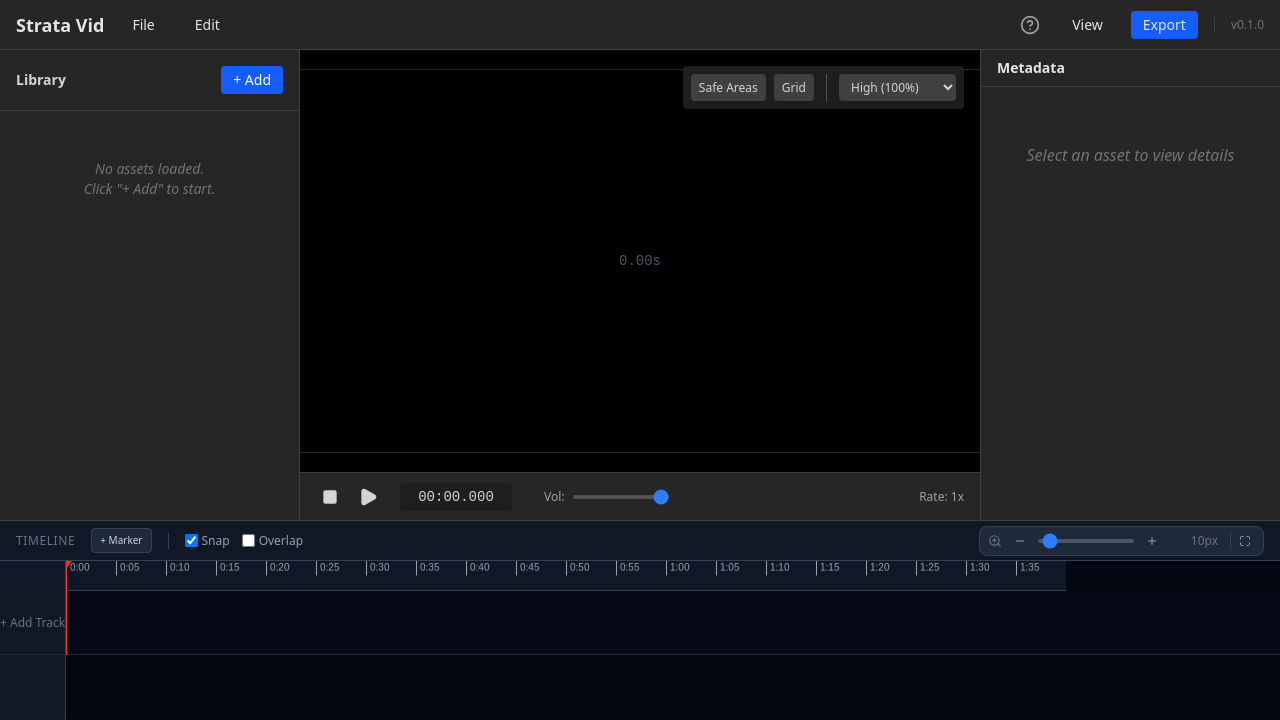
Test: Integration: Help System › closes help modal
This screenshot has width=1280, height=720.
Click the button named "Help": (1030, 24) [1016, 10, 1044, 38]
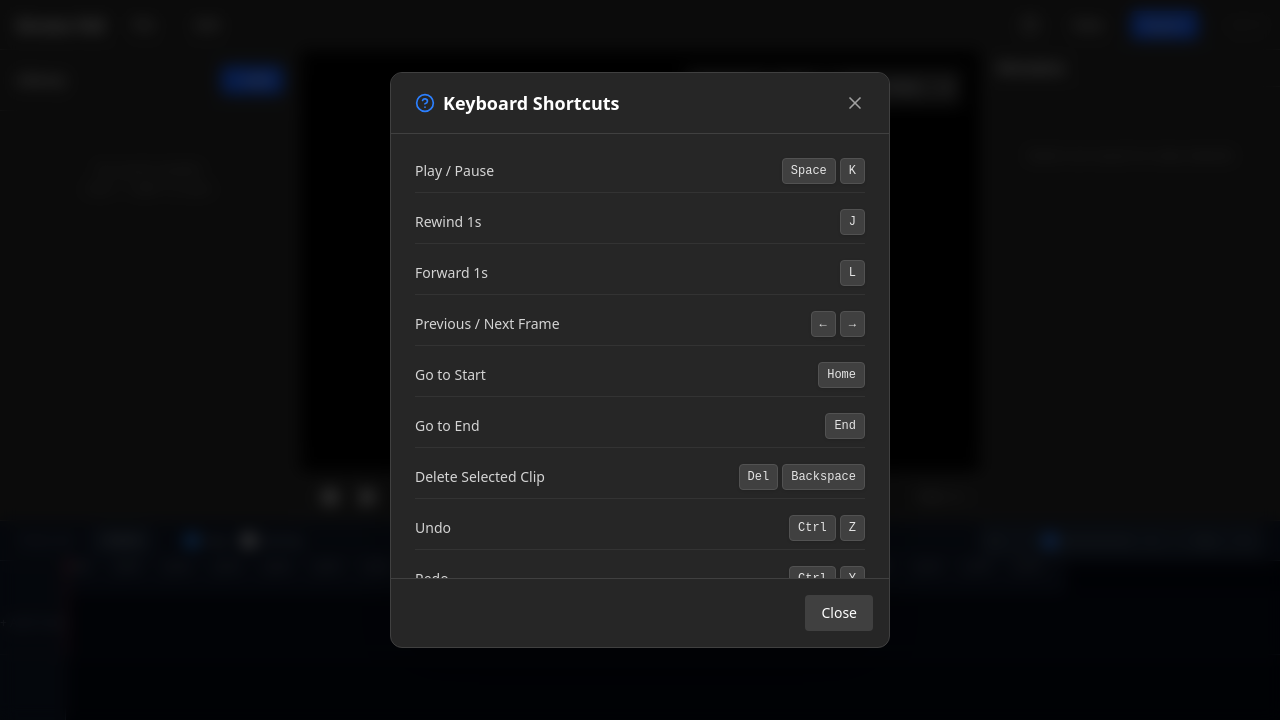
Expected: the heading "Keyboard Shortcuts" is shown, [415, 89, 620, 117]
Click the button named "Close Help": (855, 103) [845, 93, 865, 113]
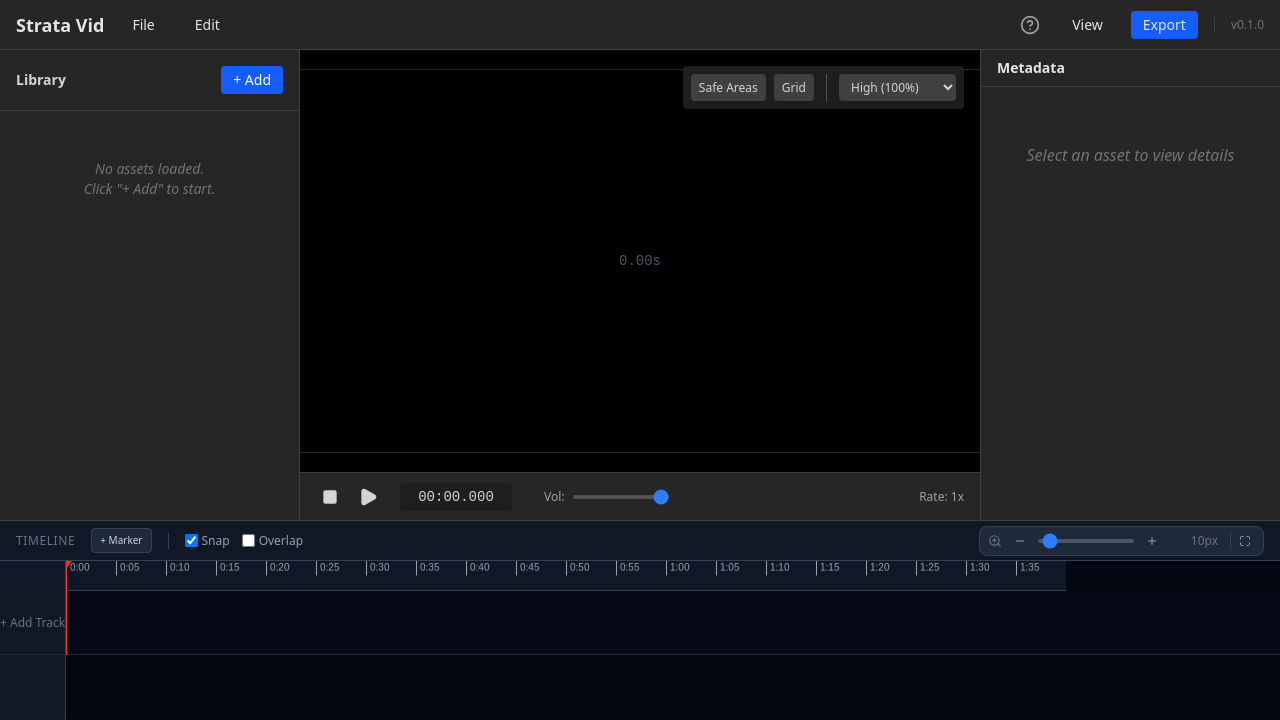
Expected: the heading "Keyboard Shortcuts" is gone
